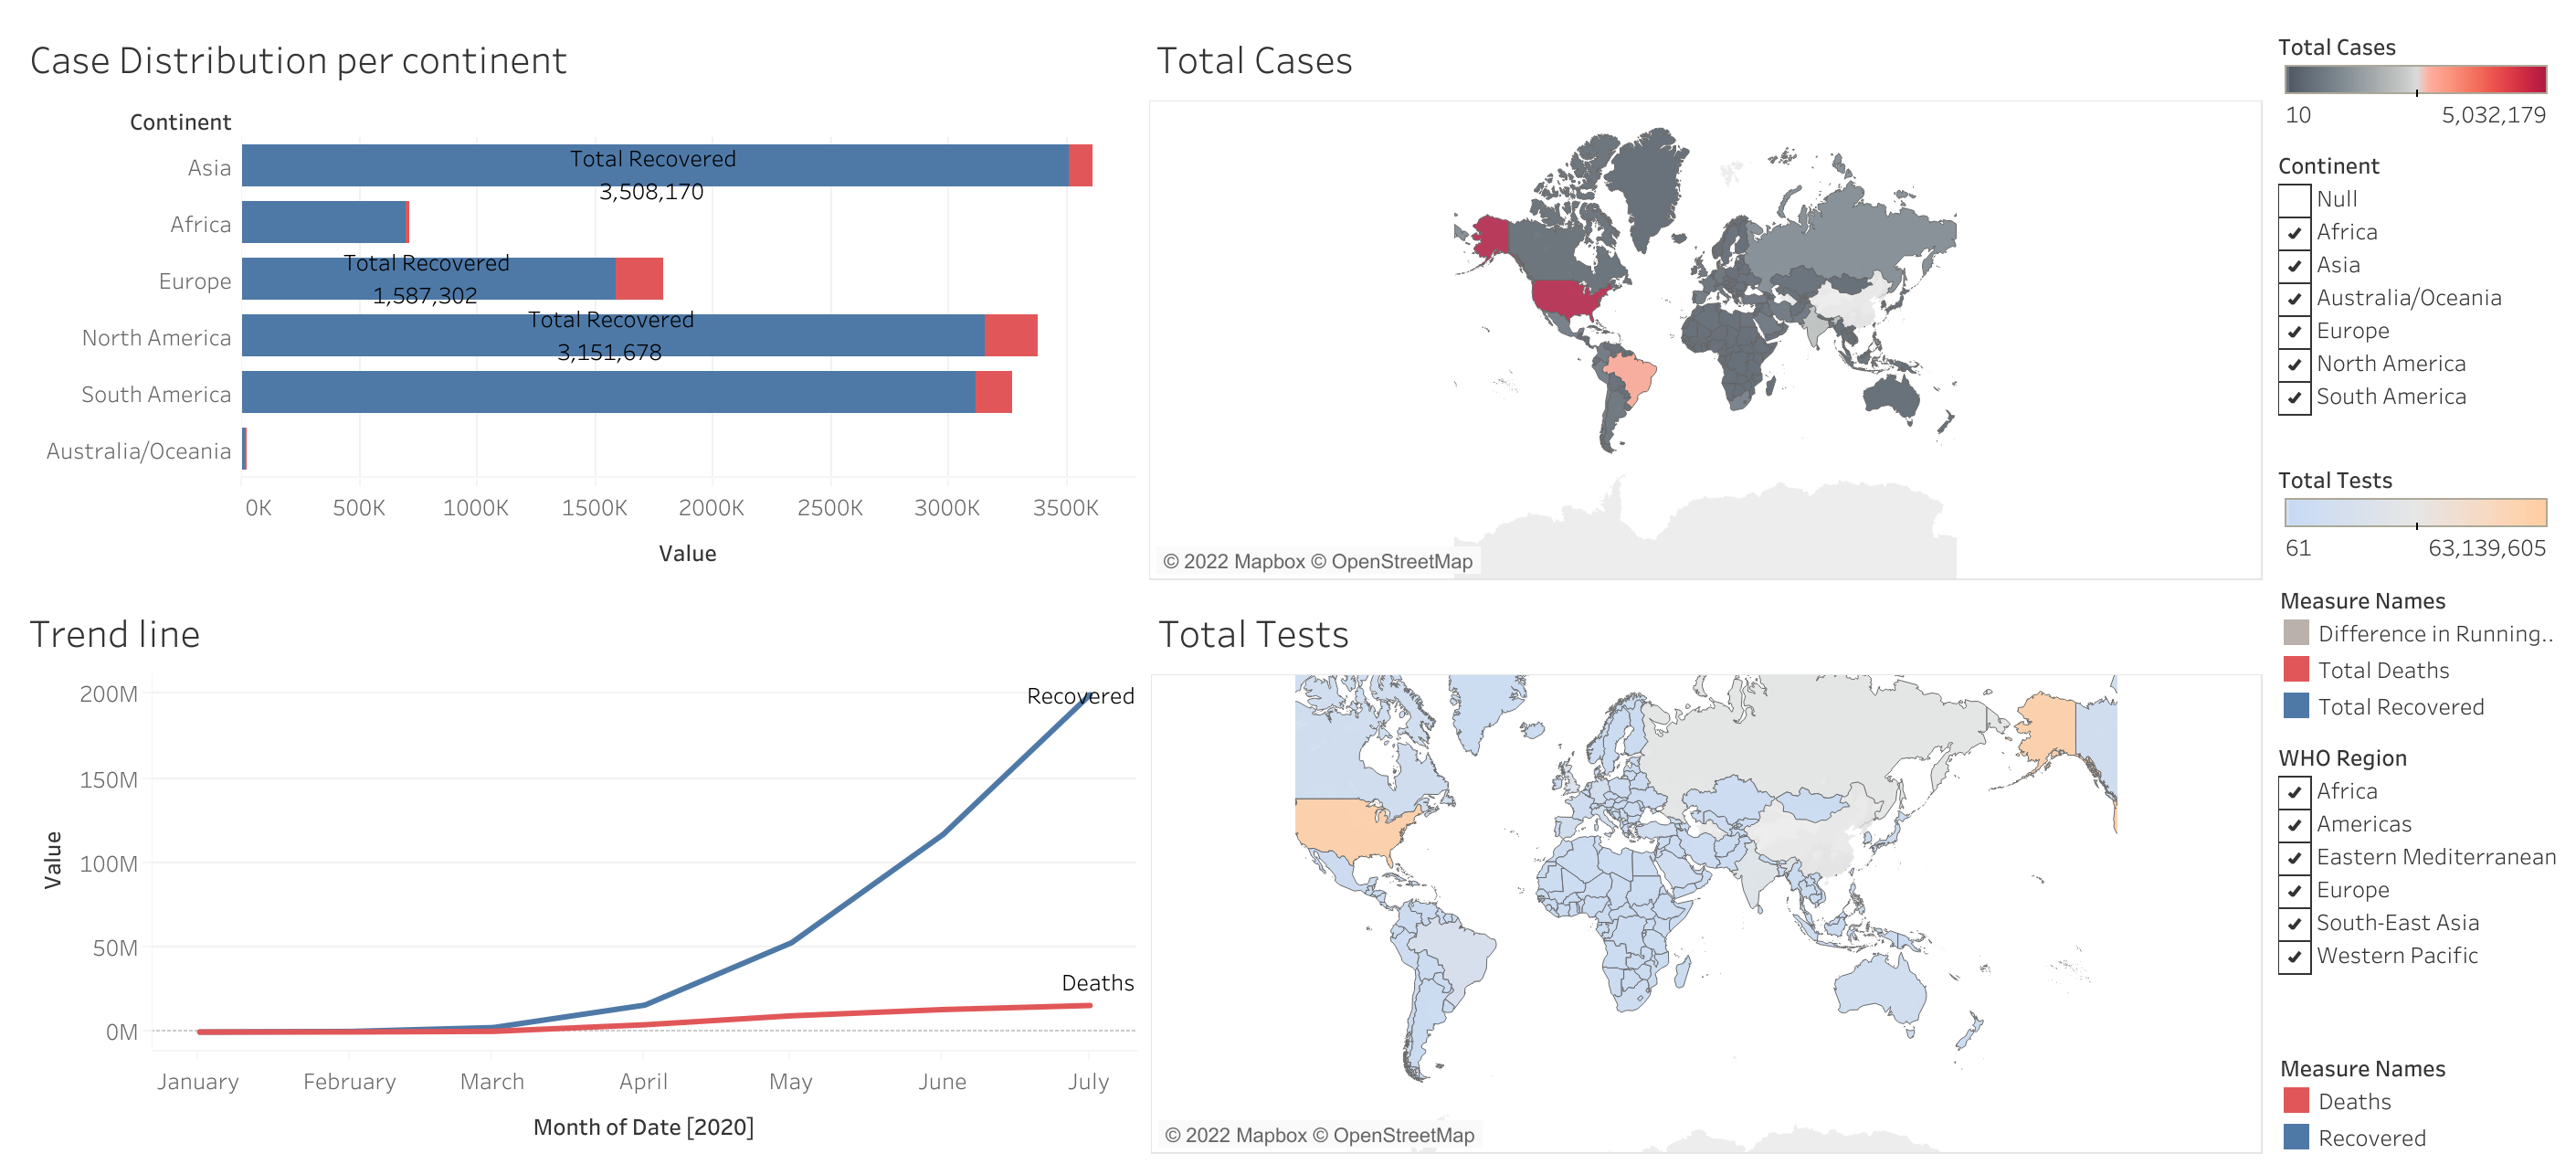

Layout of this report page (visuals, bound fields, positions):
{"tool":"tableau","page":{"name":"Dashboard 2","canvas":[1000,1000],"units":"permille","ordinal":0},"visuals":[{"type":"worksheet","title":"Case Distribution per continent","mark":"Automatic","rows":["Continent"],"box":[6.6,9.9,426.9,490.1]},{"type":"worksheet","title":"Total Cases ","mark":"Automatic","box":[433.6,9.9,426.9,490.1]},{"type":"legend","title":"Total Cases ","param":"[federated.1wp5b3p006ept91g7ipcw1ow1tmx].[sum:TotalCases:qk]","box":[860.5,9.9,132.9,80.4]},{"type":"filter","title":"Total Tests","param":"[federated.1wp5b3p006ept91g7ipcw1ow1tmx].[none:Continent:nk]","box":[860.5,90.3,132.9,227.7]},{"type":"legend","title":"Total Tests","param":"[federated.1wp5b3p006ept91g7ipcw1ow1tmx].[sum:TotalTests:qk]","box":[860.5,318.1,132.9,80.4]},{"type":"legend","title":"Case Distribution per continent","param":"[federated.1wp5b3p006ept91g7ipcw1ow1tmx].[:Measure Names]","box":[860.5,398.5,132.9,106.4]},{"type":"worksheet","title":"Trend line ","mark":"Automatic","cols":["Date"],"box":[6.6,500,426.9,490.1]},{"type":"worksheet","title":"Total Tests","mark":"Automatic","box":[433.6,500,426.9,490.1]},{"type":"filter","title":"Trend line ","param":"[federated.06s3wyv0gg1c1j0zmivct0xkdvin].[none:WHO Region:nk]","box":[860.5,504.9,132.9,204.2]},{"type":"legend","title":"Trend line ","param":"[federated.06s3wyv0gg1c1j0zmivct0xkdvin].[:Measure Names]","box":[860.5,709.1,132.9,81.7]}]}

Visuals, with their boxes on the dashboard's canvas, which has no fixed pixel size, in thousandths of its width and height (x1, y1, x2, y2). These are canvas units, not pixel positions in the 2576x1175 screenshot, which may show the page scaled, cropped or inside an application window:
"Case Distribution per continent" worksheet: (left=7, top=10, right=434, bottom=500)
"Total Cases " worksheet: (left=434, top=10, right=860, bottom=500)
"Total Cases " legend: (left=860, top=10, right=993, bottom=90)
"Total Tests" filter: (left=860, top=90, right=993, bottom=318)
"Total Tests" legend: (left=860, top=318, right=993, bottom=398)
"Case Distribution per continent" legend: (left=860, top=398, right=993, bottom=505)
"Trend line " worksheet: (left=7, top=500, right=434, bottom=990)
"Total Tests" worksheet: (left=434, top=500, right=860, bottom=990)
"Trend line " filter: (left=860, top=505, right=993, bottom=709)
"Trend line " legend: (left=860, top=709, right=993, bottom=791)
